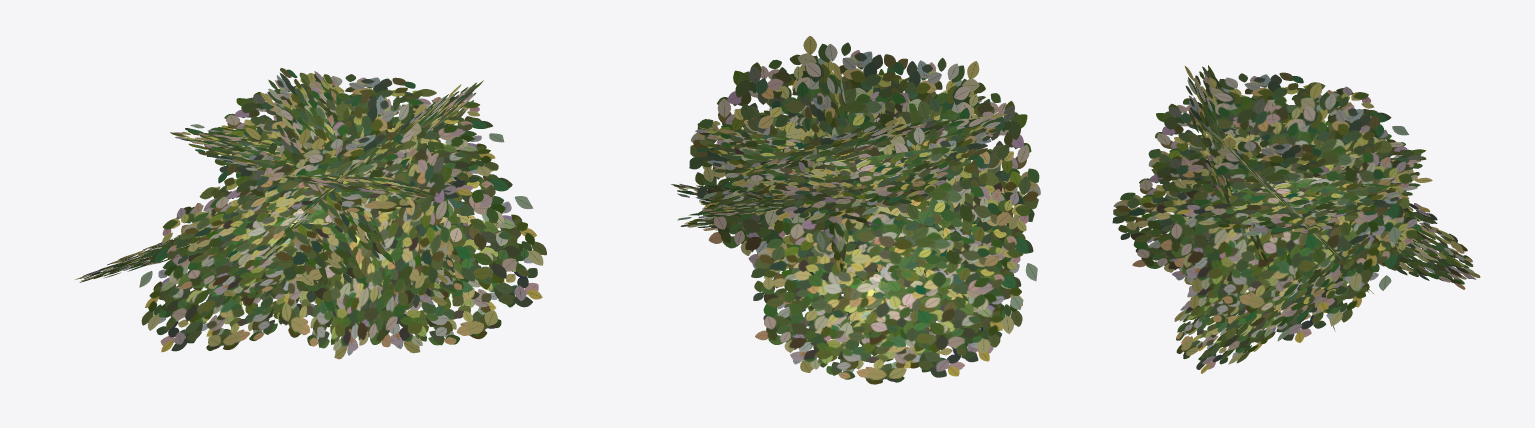
Rendered from Bush_Common_Flowers_LOD2.gltf.
3 renders of one model, left to right at view 1: azimuth 30°, elevation 25°; view 2: azimuth 150°, elevation 25°; view 3: azimuth 270°, elevation 25°, orthographic. The views are drawn at different scales.
Visible parts, largest first — view 1: Bush_Common_Flowers_LOD2; view 2: Bush_Common_Flowers_LOD2; view 3: Bush_Common_Flowers_LOD2.
Boxes of the visible parts, bbox=[...] form: Bush_Common_Flowers_LOD2: bbox=[75, 68, 546, 359]; Bush_Common_Flowers_LOD2: bbox=[671, 36, 1040, 384]; Bush_Common_Flowers_LOD2: bbox=[1112, 65, 1480, 373].
Bounding box in the file's own units: 2.74 × 1.74 × 2.48.
1 material, 1 textured.
